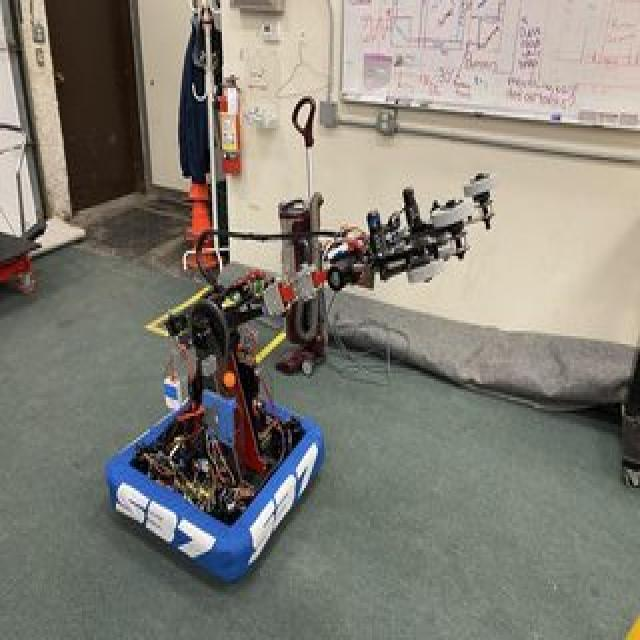robot: (100, 142, 506, 588)
